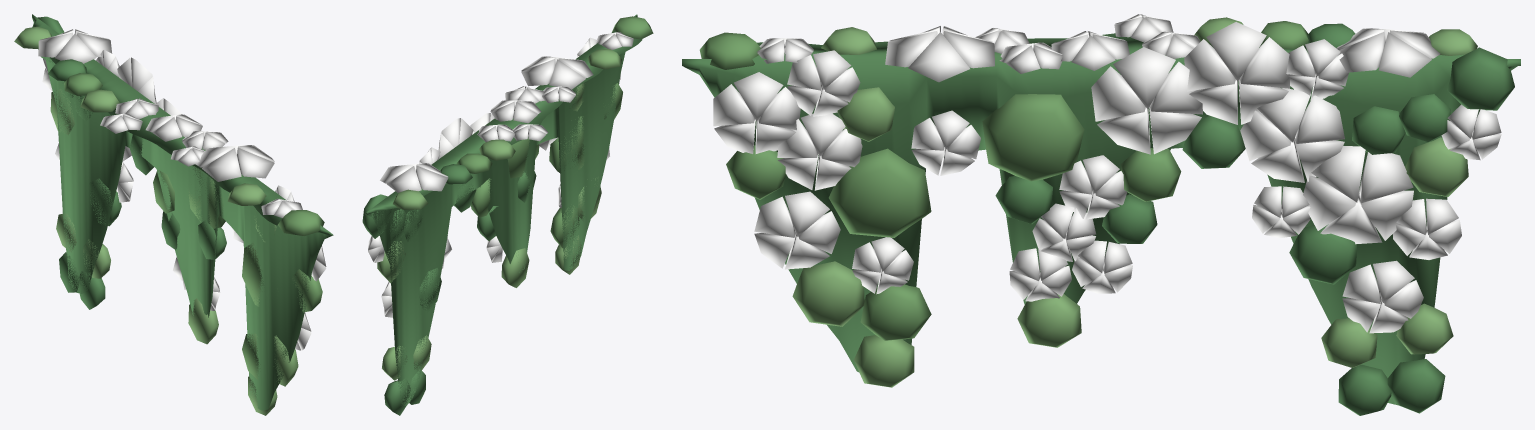
File: bougain.glb
3 renders of one model, left to right at view 1: azimuth 30°, elevation 25°; view 2: azimuth 150°, elevation 25°; view 3: azimuth 270°, elevation 25°, orthographic. The views are drawn at different scales.
Parts seen in each view (by area): view 1: Foliage | wall drape core, Wall | crest bract clump.001, Wall | crest bract clump, Wall | crest bract clump.002, Wall | face bract clump.009, Wall | crest leaf clump, Wall | face leaf clump.012, Wall | face leaf clump, Wall | face leaf clump.001, Wall | face leaf clump.019, Wall | face leaf clump.006, Wall | face leaf clump.004 (+24 smaller); view 2: Foliage | wall drape core, Wall | crest bract clump.001, Wall | crest bract clump, Wall | crest bract clump.002, Wall | face leaf clump, Wall | face bract clump.009, Wall | face leaf clump.012, Wall | face leaf clump.003, Wall | face leaf clump.018, Wall | crest leaf clump, Wall | face leaf clump.004, Wall | face leaf clump.019 (+27 smaller); view 3: Foliage | wall drape core, Wall | face bract clump.002, Wall | face bract clump.004, Wall | face bract clump.009, Wall | face leaf clump.004, Wall | face bract clump.006, Wall | face leaf clump, Wall | face bract clump.001, Wall | face bract clump, Wall | face bract clump.005, Wall | face bract clump.007, Wall | crest bract clump.001 (+42 smaller).
Part boxes in pixels (x1,y1,x2,y2): Foliage | wall drape core: [32, 14, 333, 410]; Wall | crest bract clump.001: [195, 145, 274, 181]; Wall | crest bract clump: [38, 29, 112, 63]; Wall | crest bract clump.002: [145, 114, 202, 141]; Wall | face bract clump.009: [117, 57, 156, 104]; Wall | crest leaf clump: [278, 210, 324, 235]; Wall | face leaf clump.012: [188, 298, 218, 344]; Wall | face leaf clump: [242, 243, 263, 306]; Wall | face leaf clump.001: [292, 269, 322, 312]; Wall | face leaf clump.019: [89, 178, 121, 226]; Wall | face leaf clump.006: [198, 220, 226, 259]; Wall | face leaf clump.004: [188, 166, 225, 228]; Foliage | wall drape core: [365, 14, 642, 405]; Wall | crest bract clump.001: [521, 56, 593, 89]; Wall | crest bract clump: [380, 163, 448, 192]; Wall | crest bract clump.002: [490, 100, 541, 123]; Wall | face leaf clump: [549, 116, 584, 174]; Wall | face bract clump.009: [438, 118, 473, 159]; Wall | face leaf clump.012: [501, 248, 529, 287]; Wall | face leaf clump.003: [550, 205, 579, 248]; Wall | face leaf clump.018: [384, 378, 410, 415]; Wall | crest leaf clump: [612, 16, 653, 39]; Wall | face leaf clump.004: [507, 137, 539, 178]; Wall | face leaf clump.019: [419, 268, 441, 312]; Foliage | wall drape core: [682, 33, 1520, 405]; Wall | face bract clump.002: [1091, 47, 1202, 154]; Wall | face bract clump.004: [1303, 146, 1413, 244]; Wall | face bract clump.009: [1184, 22, 1290, 124]; Wall | face leaf clump.004: [982, 94, 1084, 181]; Wall | face bract clump.006: [1240, 88, 1344, 182]; Wall | face leaf clump: [828, 148, 931, 237]; Wall | face bract clump.001: [713, 72, 800, 153]; Wall | face bract clump: [754, 191, 840, 269]; Wall | face bract clump.005: [777, 113, 862, 190]; Wall | face bract clump.007: [1342, 260, 1423, 333]; Wall | crest bract clump.001: [885, 26, 994, 82].
Size of the model in its own units: 0.1849 by 0.5208 by 1.
